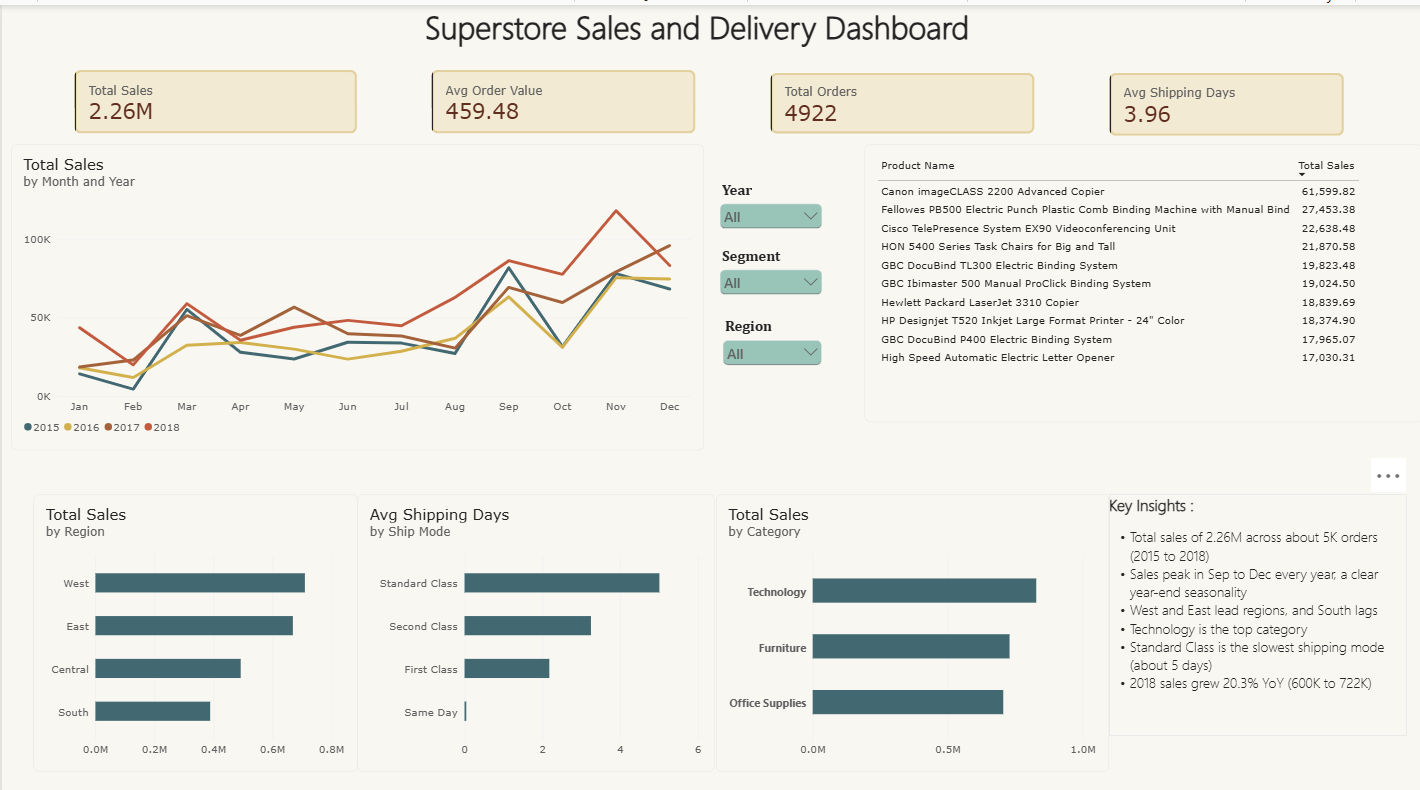

The dashboard page shown, as its layout file describes it:
{"tool":"powerbi","page":{"name":"Page 1","canvas":[1920,1080],"ordinal":0},"visuals":[{"type":"cardVisual","fields":{"Data":["Orders.Total Sales"]},"box":[97.3,87.2,383.2,87.2],"z":0},{"type":"cardVisual","fields":{"Data":["Orders.Total Orders"]},"box":[1038.1,91.2,358.9,83.1],"z":1000},{"type":"cardVisual","fields":{"Data":["Orders.Avg Order Value"]},"box":[579.9,87.2,358.9,87.2],"z":2000},{"type":"cardVisual","fields":{"Data":["Orders.Avg Shipping Days"]},"box":[1496.3,91.2,318.2,86.3],"z":3000},{"type":"lineChart","fields":{"Category":["Date Table.Month"],"Series":["Date Table.Year"],"Y":["Orders.Total Sales"]},"box":[12.2,188.6,936.7,413.6],"z":6000},{"type":"clusteredBarChart","fields":{"Category":["Orders.Category"],"Y":["Orders.Total Sales"]},"box":[964.4,661,531.2,375.1],"z":7000},{"type":"clusteredBarChart","fields":{"Category":["Orders.Region"],"Y":["Orders.Total Sales"]},"box":[42.6,661,438,375.1],"z":8000},{"type":"clusteredBarChart","fields":{"Category":["Orders.Ship Mode"],"Y":["Orders.Avg Shipping Days"]},"box":[481.2,661,482.6,375.1],"z":9000},{"type":"tableEx","fields":{"Values":["Orders.Product Name","Orders.Total Sales"]},"box":[1165.9,188.6,754.3,375.1],"z":10000},{"type":"slicer","fields":{"Values":["Date Table.Year"]},"box":[965.1,237.2,148,89.2],"z":11000},{"type":"slicer","fields":{"Values":["Orders.Region"]},"box":[969.2,421.7,144,87.2],"z":12000},{"type":"slicer","fields":{"Values":["Orders.Segment"]},"box":[965.1,326.4,148,68.9],"z":13000},{"type":"textbox","box":[571.8,0,754.3,68.9],"z":14000},{"type":"textbox","box":[1496.3,661,403.5,326.4],"z":15000}]}

Visuals, with their boxes in screenshot pixels (x1, y1, x2, y2), scaled from the page's 1920x1080 canvas onto the 1420x790 screenshot:
cardVisual - Orders.Total Sales: bbox(72, 64, 355, 128)
cardVisual - Orders.Total Orders: bbox(768, 67, 1033, 127)
cardVisual - Orders.Avg Order Value: bbox(429, 64, 694, 128)
cardVisual - Orders.Avg Shipping Days: bbox(1107, 67, 1342, 130)
lineChart - Date Table.Month x Date Table.Year: bbox(9, 138, 702, 440)
clusteredBarChart - Orders.Category x Orders.Total Sales: bbox(713, 484, 1106, 758)
clusteredBarChart - Orders.Region x Orders.Total Sales: bbox(32, 484, 355, 758)
clusteredBarChart - Orders.Ship Mode x Orders.Avg Shipping Days: bbox(356, 484, 713, 758)
tableEx - Orders.Product Name x Orders.Total Sales: bbox(862, 138, 1419, 412)
slicer - Date Table.Year: bbox(714, 174, 823, 239)
slicer - Orders.Region: bbox(717, 308, 823, 372)
slicer - Orders.Segment: bbox(714, 239, 823, 289)
textbox: bbox(423, 0, 981, 50)
textbox: bbox(1107, 484, 1405, 722)
